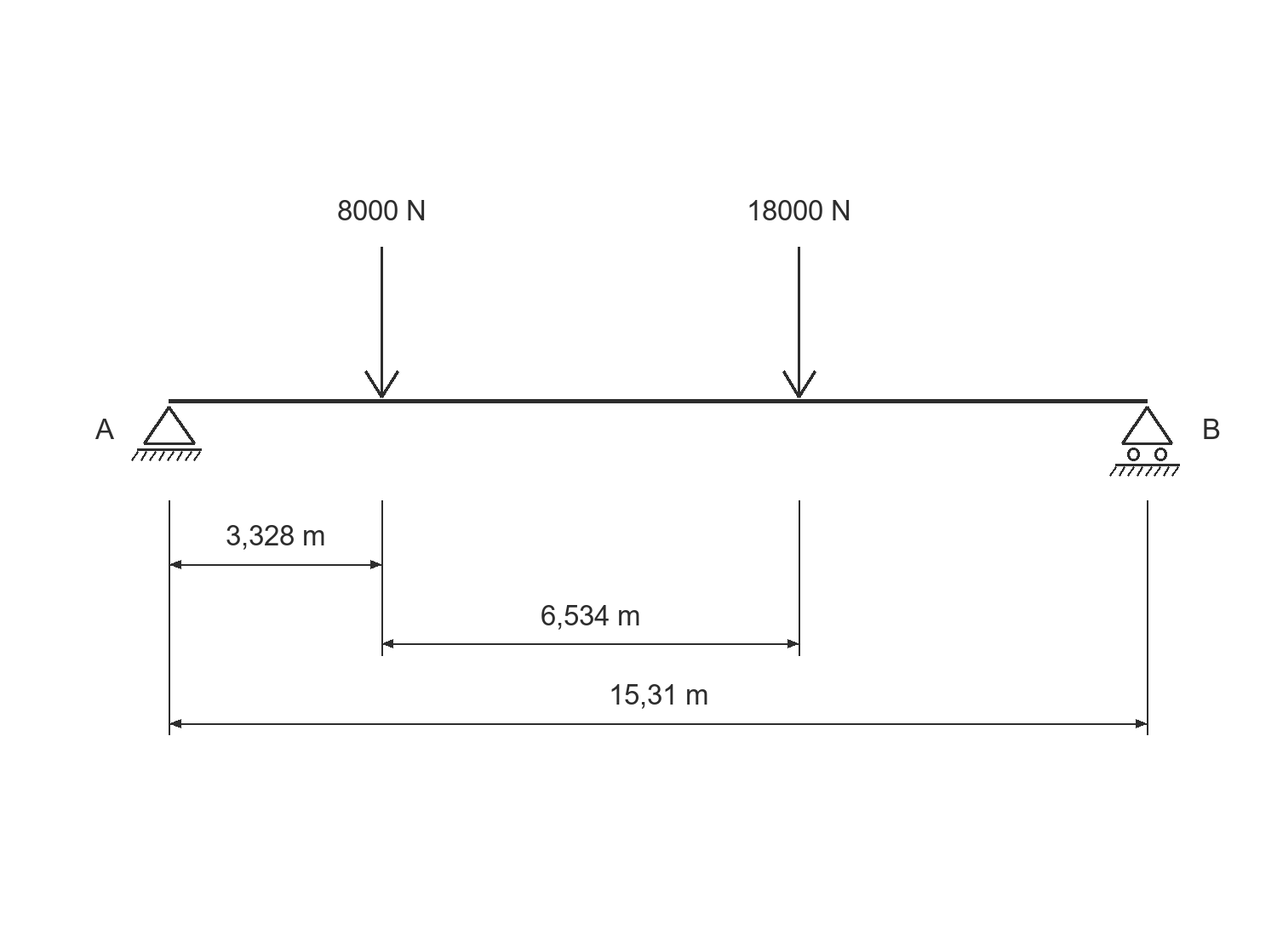pin_support: (131, 406, 202, 461)
point_load: (364, 247, 399, 398), (782, 247, 816, 398)
roller_support: (1109, 406, 1180, 477)
